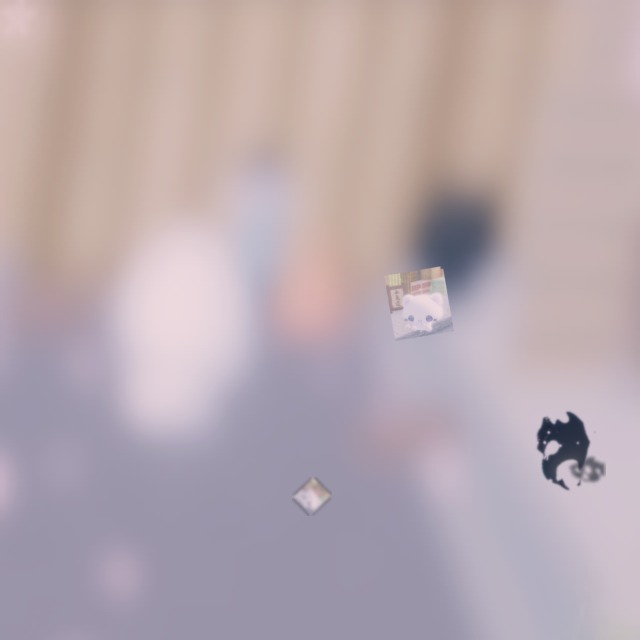urso_branco: (384, 266, 454, 341), (292, 477, 332, 516)
urso_preto: (522, 395, 605, 504), (566, 454, 606, 486)
